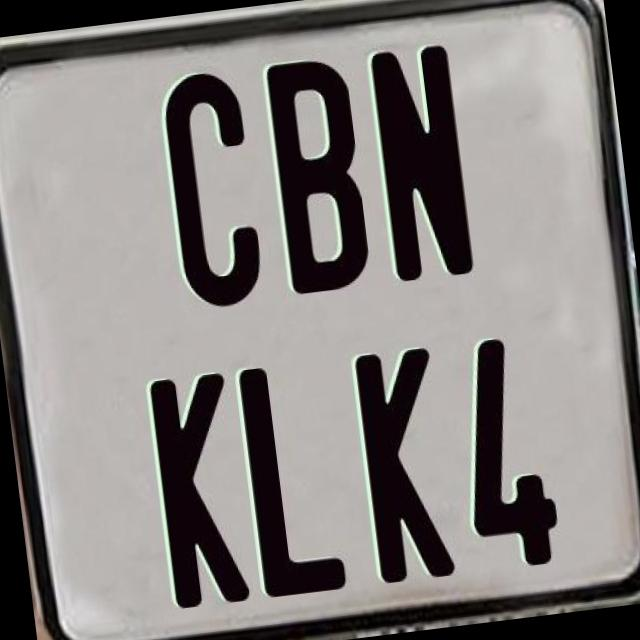4: (451, 333, 568, 578)
B: (261, 52, 376, 296)
C: (156, 66, 266, 311)
K: (144, 370, 250, 616), (354, 344, 456, 580)
L: (233, 358, 344, 602)
N: (364, 38, 475, 285)
